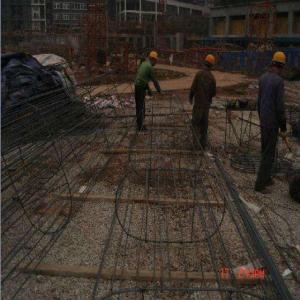yellow: (271, 50, 288, 77), (204, 54, 216, 73), (149, 51, 159, 68)
